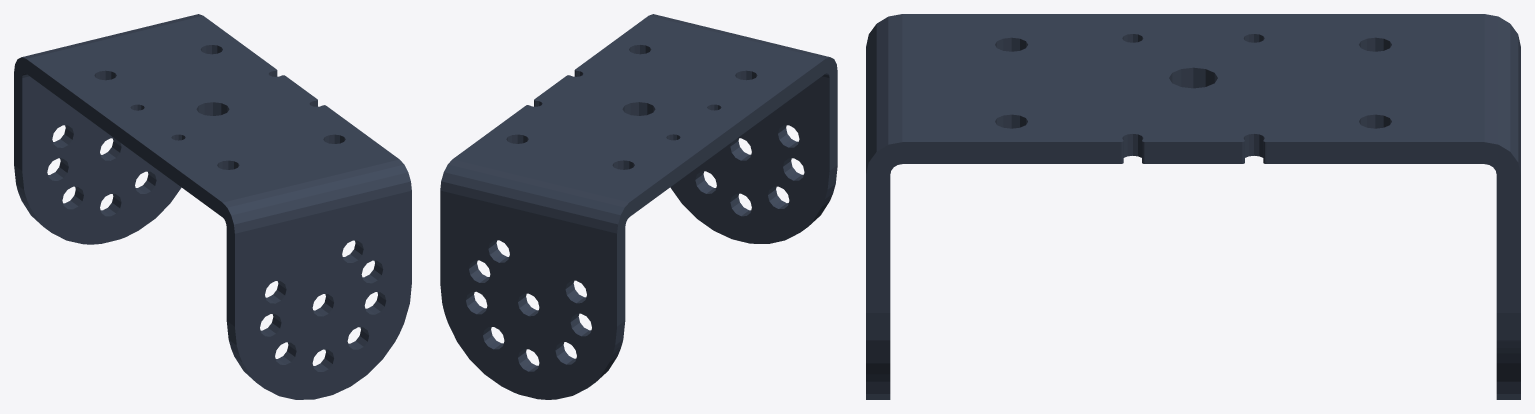
File: lidar_mount.dae
3 renders of one model, left to right at view 1: azimuth 30°, elevation 25°; view 2: azimuth 150°, elevation 25°; view 3: azimuth 270°, elevation 25°, orthographic. The views are drawn at different scales.
Visible parts, largest first — view 1: lidar_mount_link; view 2: lidar_mount_link; view 3: lidar_mount_link.
Part boxes in pixels (x1,y1,x2,y2): lidar_mount_link: (14, 14, 411, 399); lidar_mount_link: (440, 14, 837, 399); lidar_mount_link: (866, 14, 1520, 399).
Bounding box in the file's own units: 0.05 × 0.108 × 0.056.
